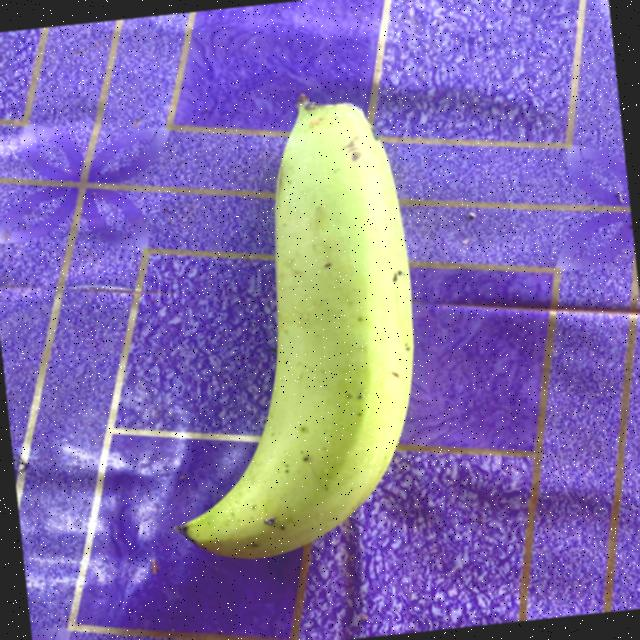Raw: (120, 73, 503, 594)
